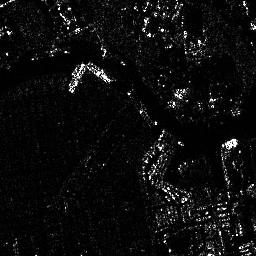ship: (85, 60, 114, 84), (68, 62, 86, 95)
